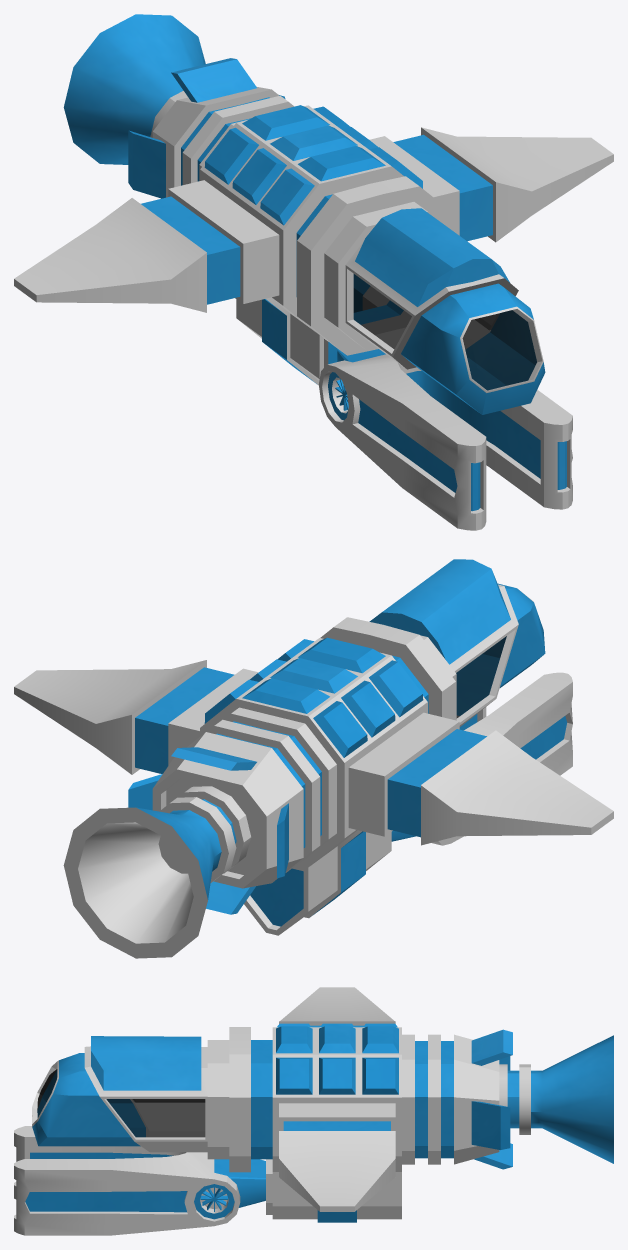
File: BDD.fbx
3 views of the same model, one above another, from view 1: azimuth 30°, elevation 25°; view 2: azimuth 150°, elevation 25°; view 3: azimuth 270°, elevation 25° (orthographic). The views are drawn at different scales.
Parts seen in each view (by area): view 1: BDD; view 2: BDD; view 3: BDD.
Part boxes in pixels (left/top/right/bottom): BDD: left=14, top=14, right=613, bottom=530; BDD: left=14, top=559, right=613, bottom=958; BDD: left=14, top=987, right=613, bottom=1235.
Bounding box in the file's own units: 8 × 3.15 × 9.27.
